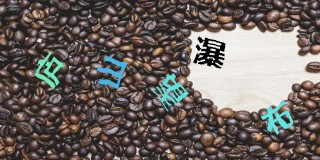山: (95, 54, 128, 89)
布: (260, 101, 293, 135)
庐: (32, 51, 66, 89)
望: (152, 72, 188, 112)
瀑: (194, 35, 227, 70)
